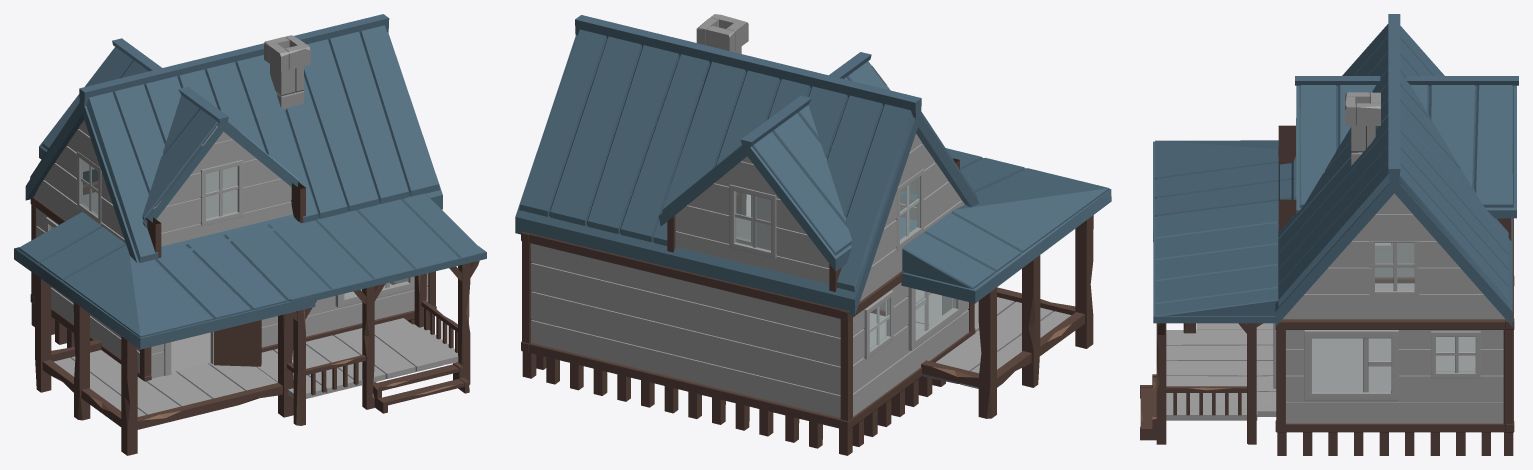
Rendered from FarmersHouse.fbx.
3 views of the same model, side by side, from view 1: azimuth 30°, elevation 25°; view 2: azimuth 150°, elevation 25°; view 3: azimuth 270°, elevation 25° (orthographic). The views are drawn at different scales.
Visible parts, largest first — view 1: polySurface6, polySurface22, polySurface26, roofElement6, polySurface27, outsideHome, polySurface11, polySurface8, polySurface23, polySurface7, roofElement3, inside (+25 smaller); view 2: polySurface6, outsideHome, polySurface22, polySurface8, roofElement2, polySurface11, polySurface7, roofElement3, polySurface27, ugol8, polySurface23, ugol9 (+22 smaller); view 3: polySurface22, polySurface6, polySurface11, roofElement, outsideHome, polySurface26, inside, polySurface8, glass1, pCube4, ugol5, ugol4 (+19 smaller).
Boxes of the visible parts, x1,y1,x2,y2 form: polySurface6: (30,25,439,262); polySurface22: (19,193,483,337); polySurface26: (256,318,458,398); roofElement6: (153,126,292,246); polySurface27: (54,350,277,416); outsideHome: (36,208,428,378); polySurface11: (42,47,299,220); polySurface8: (25,32,442,262); polySurface23: (14,247,315,349); polySurface7: (79,14,389,107); roofElement3: (34,120,125,243); inside: (51,166,407,372); polySurface6: (519,29,977,292); outsideHome: (531,204,968,417); polySurface22: (900,148,1109,288); polySurface8: (515,35,979,315); roofElement2: (675,156,829,284); polySurface11: (662,62,916,255); polySurface7: (575,15,921,119); roofElement3: (859,133,964,301); polySurface27: (915,289,1071,388); ugol8: (521,341,852,430); polySurface23: (900,158,1111,303); ugol9: (521,231,852,319); polySurface22: (1155,140,1296,315); polySurface6: (1278,24,1508,306); polySurface11: (1299,85,1513,207); roofElement: (1282,193,1505,319); outsideHome: (1286,330,1503,423); polySurface26: (1166,330,1276,420); inside: (1312,243,1475,390); polySurface8: (1275,161,1512,326); glass1: (1312,338,1390,391); pCube4: (1304,330,1398,400); ugol5: (1275,319,1514,329); ugol4: (1275,420,1514,432).
Bounding box in the file's own units: 275 × 209 × 237.
